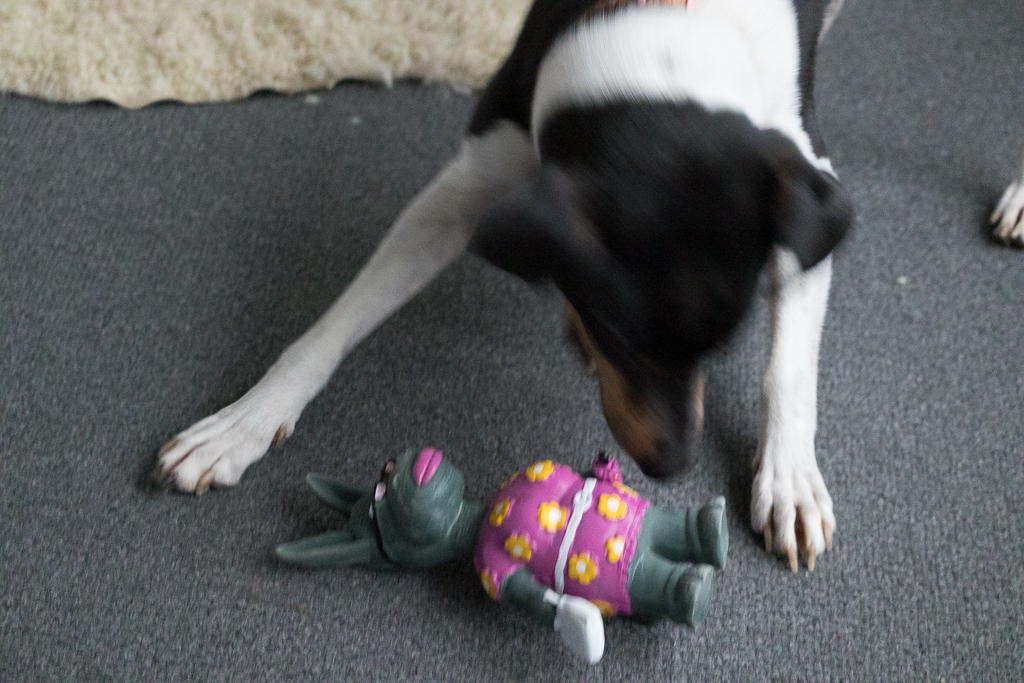Dog: (137, 0, 1024, 609)
Humanoid: (262, 425, 751, 670)
